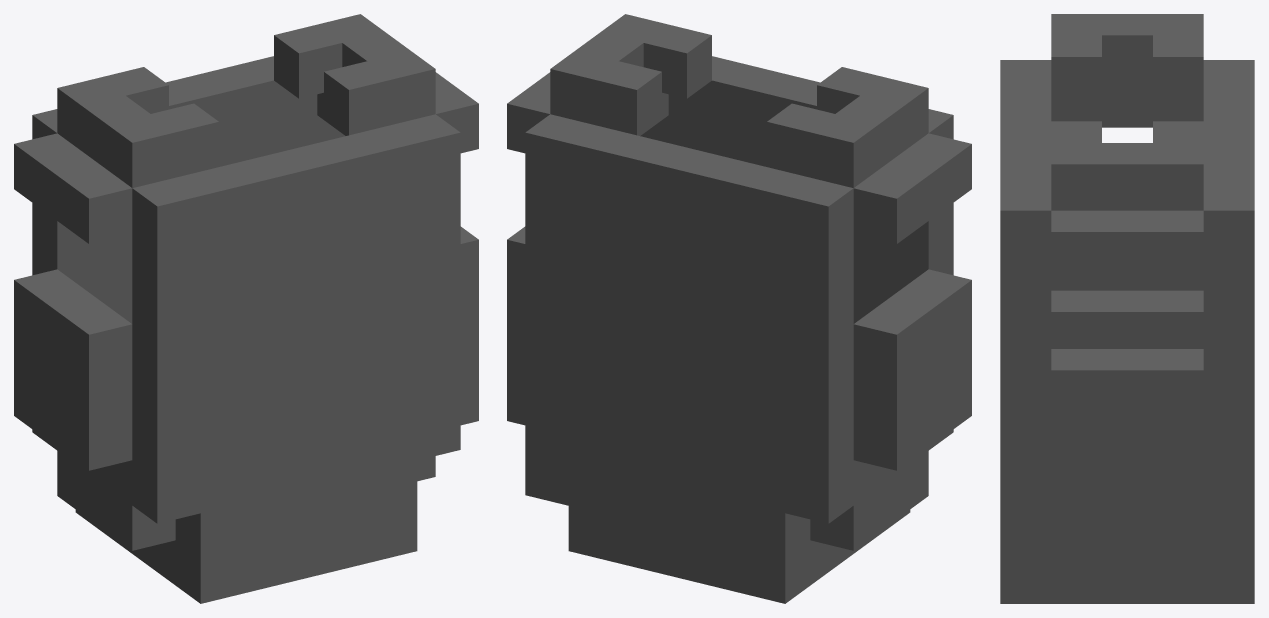
Rendered from Bulletproof.obj.
3 views of the same model, side by side, from view 1: azimuth 30°, elevation 25°; view 2: azimuth 150°, elevation 25°; view 3: azimuth 270°, elevation 25° (orthographic).
Size of the model in its own units: 0.9 by 1 by 0.5.
1 material, 1 textured.
